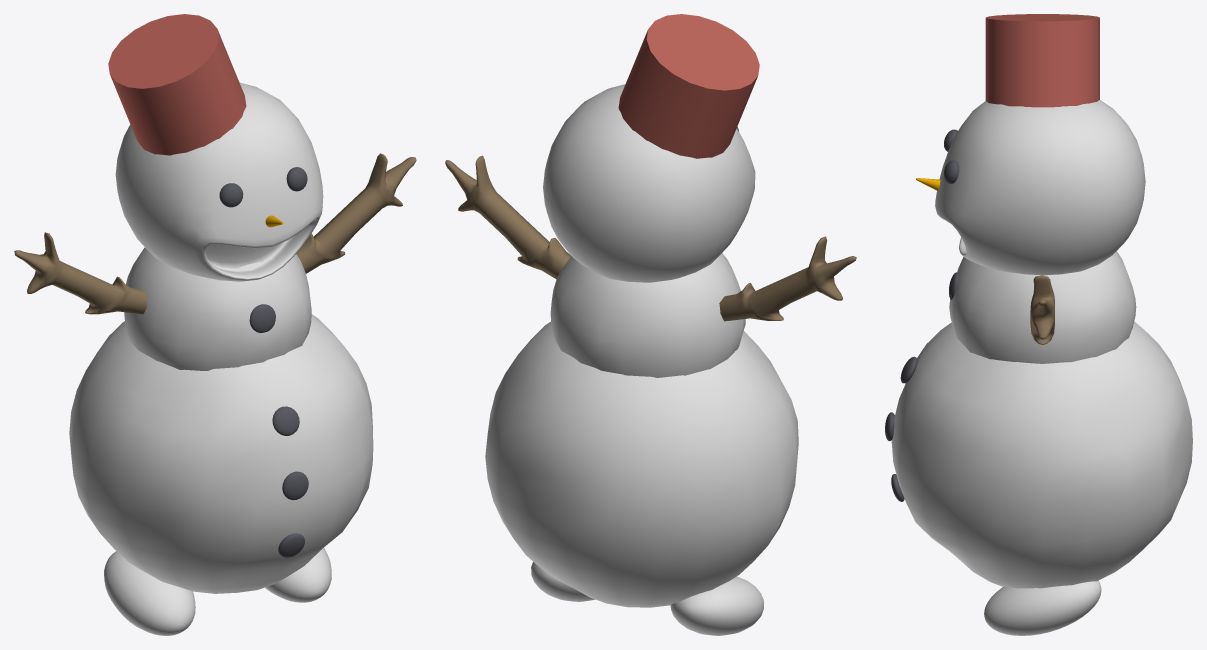
File: Snowman(3).fbx
3 renders of one model, left to right at view 1: azimuth 30°, elevation 25°; view 2: azimuth 150°, elevation 25°; view 3: azimuth 270°, elevation 25°, orthographic. The views are drawn at different scales.
Parts seen in each view (by area): view 1: pSphere3, pCube1, pSphere9, pCylinder2, pSphere5, pCube2, pCube3, pSphere4, pSphere6, pSphere10, pSphere7; view 2: pSphere3, pCube1, pSphere9, pCylinder2, pCube2, pCube3, pSphere5, pSphere4; view 3: pSphere3, pCube1, pSphere9, pCylinder2, pSphere4, pCube2.
Part boxes in pixels (box(x1,y1,x2,y2)): pSphere3: box(69, 314, 373, 593); pCube1: box(115, 82, 323, 281); pSphere9: box(124, 247, 311, 370); pCylinder2: box(108, 14, 246, 155); pSphere5: box(104, 551, 195, 635); pCube2: box(296, 153, 416, 273); pCube3: box(14, 232, 147, 314); pSphere4: box(265, 548, 331, 602); pSphere6: box(272, 406, 299, 435); pSphere10: box(249, 304, 275, 332); pSphere7: box(282, 471, 308, 500); pSphere3: box(485, 322, 798, 607); pCube1: box(543, 84, 755, 282); pSphere9: box(550, 253, 745, 377); pCylinder2: box(618, 14, 759, 158); pCube2: box(445, 155, 570, 279); pCube3: box(719, 236, 856, 321); pSphere5: box(670, 576, 763, 635); pSphere4: box(531, 562, 594, 601); pSphere3: box(891, 321, 1192, 588); pCube1: box(935, 100, 1145, 275); pSphere9: box(949, 251, 1136, 363); pCylinder2: box(985, 14, 1099, 107); pSphere4: box(984, 581, 1101, 635); pCube2: box(1030, 275, 1054, 344).
Size of the model in its own units: 2.53 by 3.53 by 1.71.
